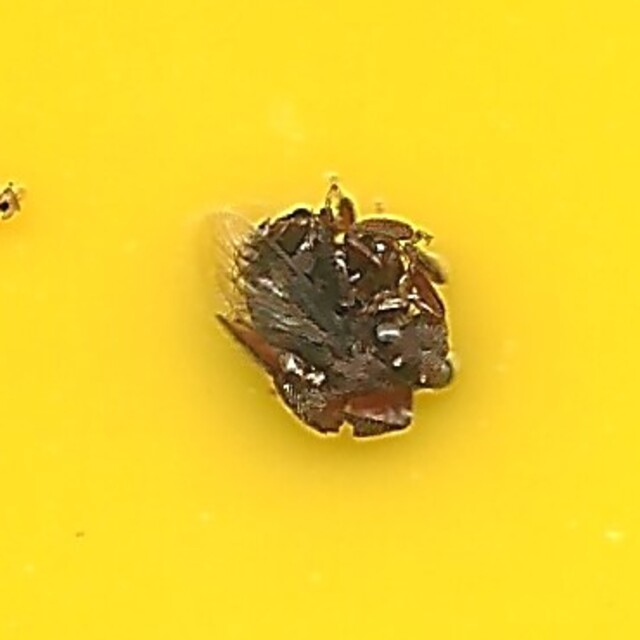Hemiptera: (173, 188, 467, 452)
